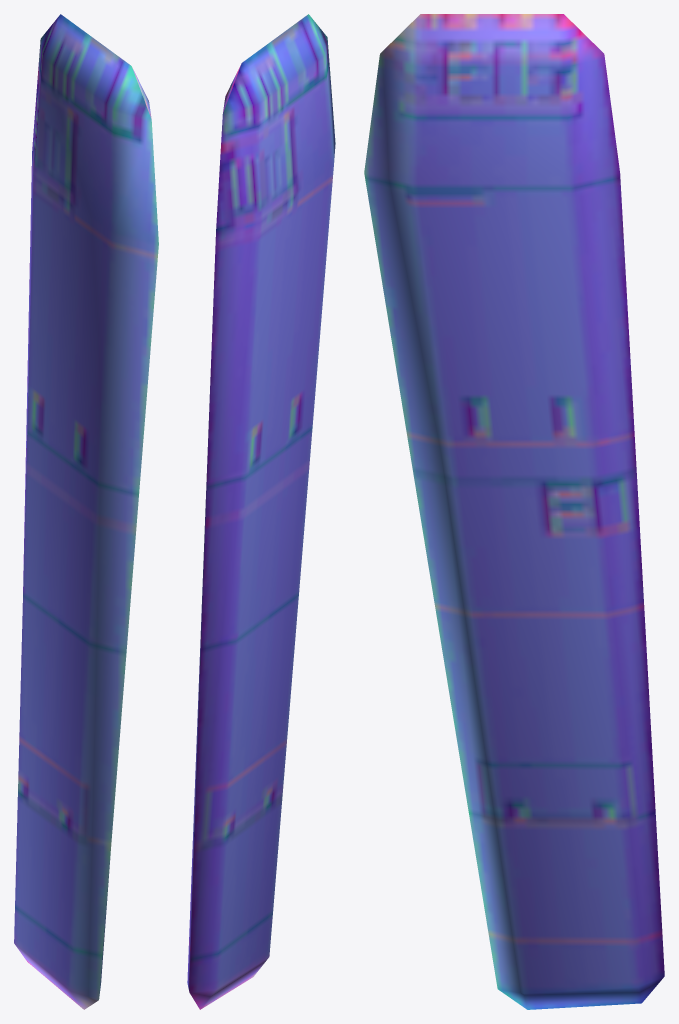
Rendered from ship_debris_05_part_16.glb.
3 renders of one model, left to right at view 1: azimuth 30°, elevation 25°; view 2: azimuth 150°, elevation 25°; view 3: azimuth 270°, elevation 25°, orthographic. The views are drawn at different scales.
Parts seen in each view (by area): view 1: ship_debris_05_part_16; view 2: ship_debris_05_part_16; view 3: ship_debris_05_part_16.
Boxes of the visible parts, left/top/right/bottom form: ship_debris_05_part_16: left=14, top=14, right=158, bottom=1009; ship_debris_05_part_16: left=187, top=14, right=335, bottom=1009; ship_debris_05_part_16: left=364, top=14, right=664, bottom=1009.
Bounding box in the file's own units: 0.187 × 3.98 × 1.09.
1 material, 1 textured.
